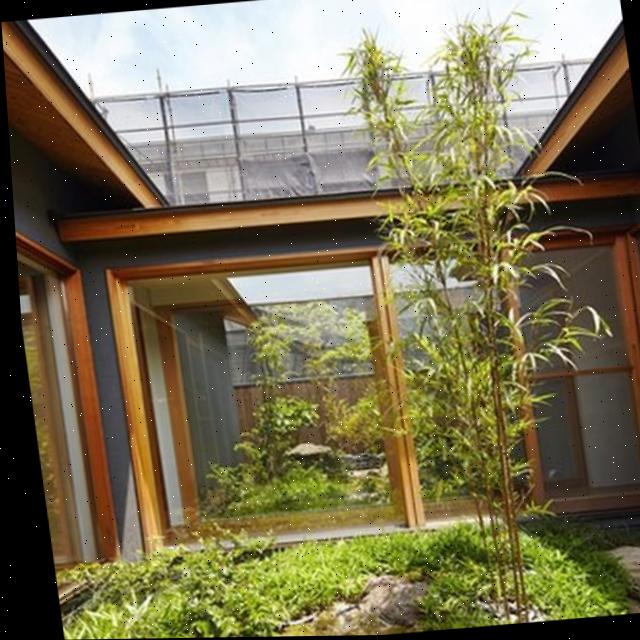building: (4, 45, 640, 571)
